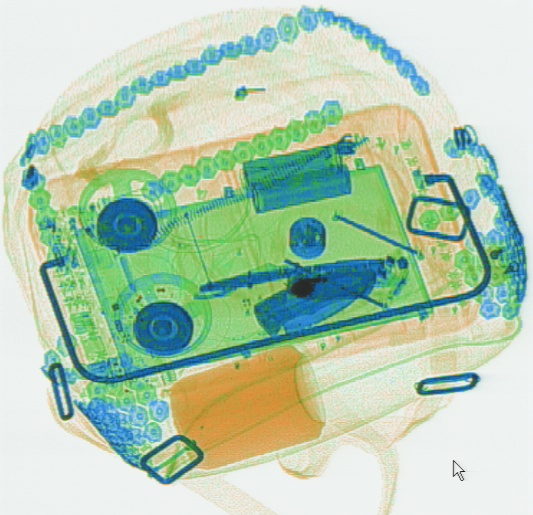knife: (249, 256, 380, 337)
